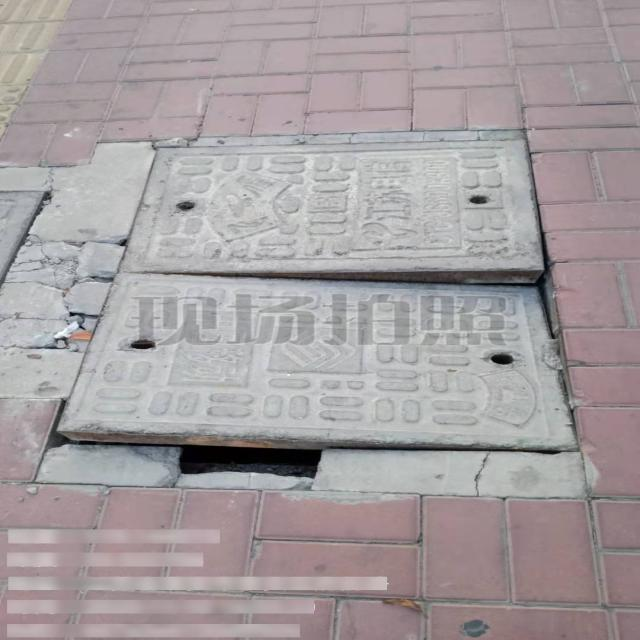Lose: (44, 129, 582, 471)
